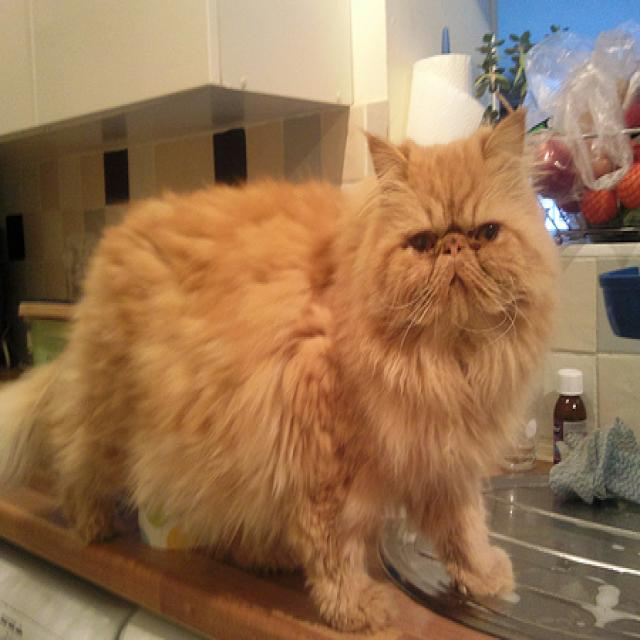Persian: (0, 102, 563, 636)
